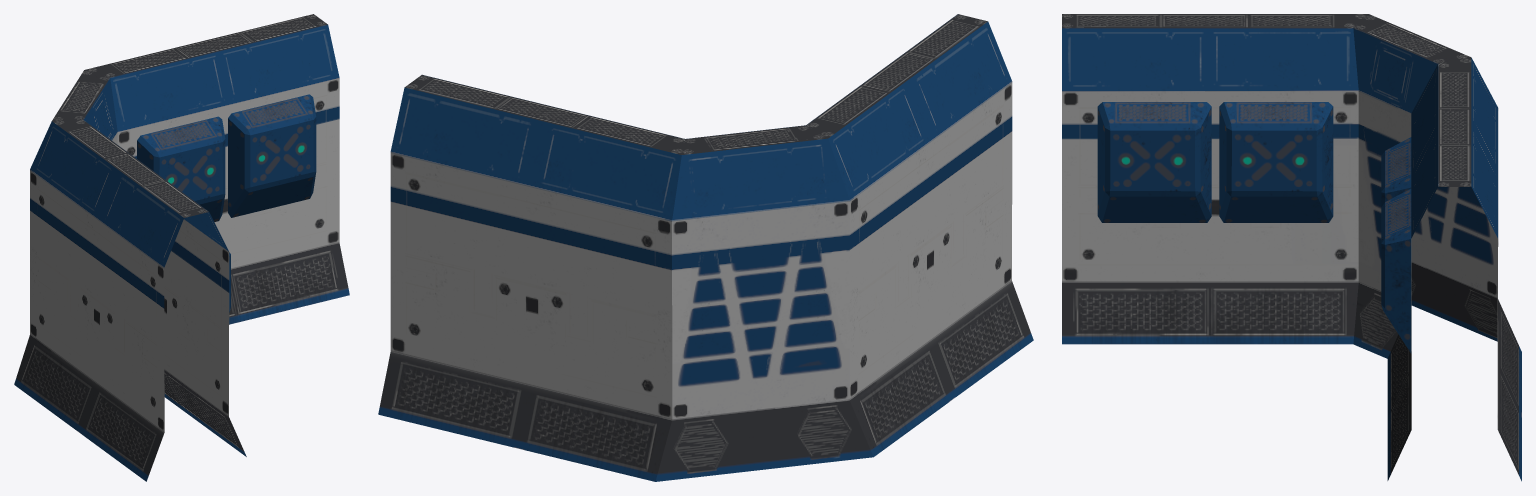
File: Wall_angle_2_Sci_Fi.fbx
3 renders of one model, left to right at view 1: azimuth 30°, elevation 25°; view 2: azimuth 150°, elevation 25°; view 3: azimuth 270°, elevation 25°, orthographic. The views are drawn at different scales.
Parts seen in each view (by area): view 1: Sci_Fi_wall_angle_2; view 2: Sci_Fi_wall_angle_2; view 3: Sci_Fi_wall_angle_2.
Part boxes in pixels (box(x1,y1,x2,y2)): Sci_Fi_wall_angle_2: box(14, 14, 349, 481); Sci_Fi_wall_angle_2: box(378, 14, 1033, 481); Sci_Fi_wall_angle_2: box(1062, 14, 1521, 481).
Size of the model in its own units: 558 by 395 by 558.
